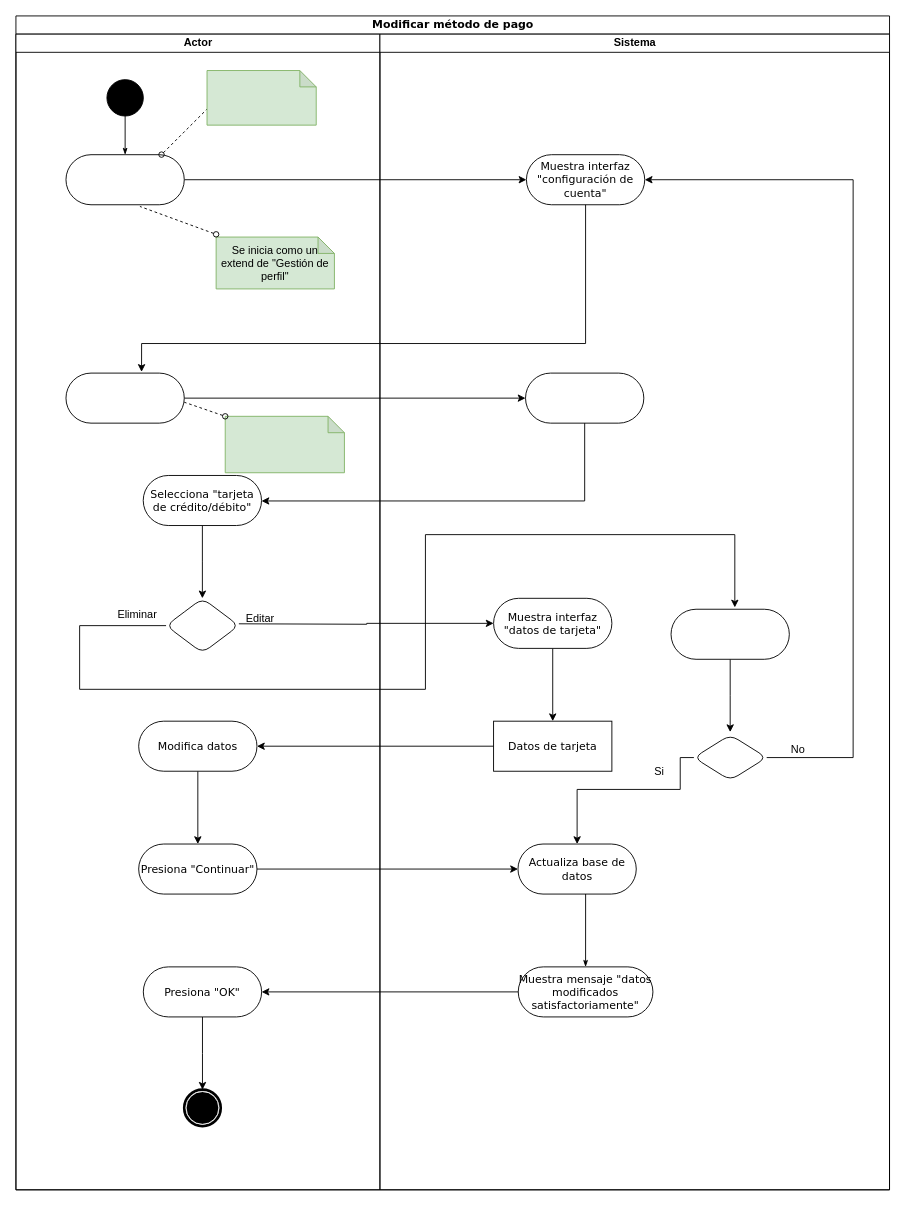
The diagram is 905 pixels wide and 1206 high, and some of its shapes have lost their labels. The shapes that lost their labels are listed below. From the top down, each one's centre as x and y in pixels, then its label:
point 261,97: El usuario debe estar registrado en el sistema
point 124,179: Presiona botón configuración de cuenta
point 124,397: Presiona botón "modificar método de pago"
point 584,397: Muestra interfaz "lista de métodos de pago"
point 284,444: Deben haber datos de TDC registrados previamente
point 729,633: Muestra mensaje "¿Está usted seguro de esta acción"
